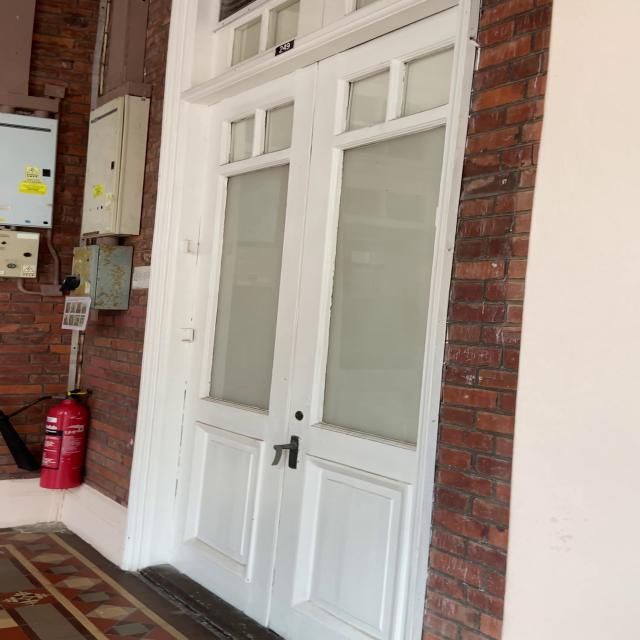room249: (269, 35, 297, 60)
